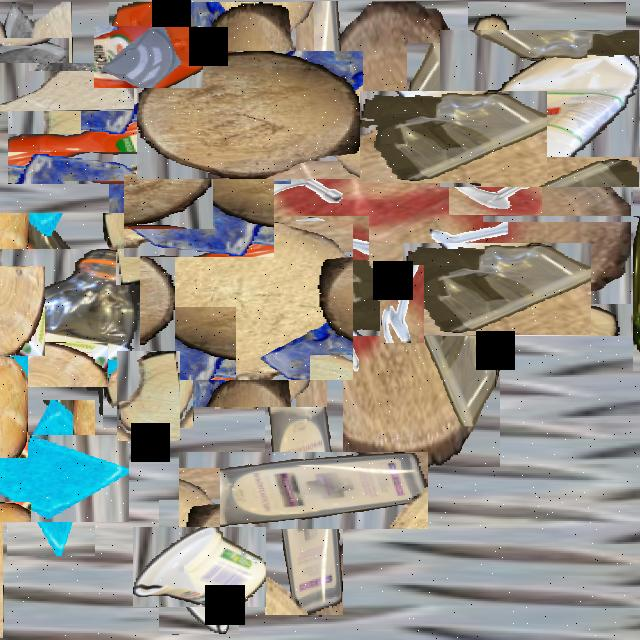glass: (0, 416, 112, 539), (140, 157, 258, 273), (105, 14, 191, 100), (156, 93, 234, 170), (0, 20, 51, 89)
metal: (317, 102, 389, 175), (380, 265, 424, 343)
plastic: (454, 16, 640, 201), (58, 53, 240, 235), (0, 230, 156, 405), (222, 409, 386, 572), (383, 67, 523, 207), (558, 140, 640, 296), (146, 513, 252, 621), (0, 301, 3, 638)
wood: (230, 67, 566, 402), (154, 207, 340, 394), (161, 27, 339, 204), (0, 32, 103, 141), (110, 358, 187, 435), (0, 266, 45, 356), (0, 356, 28, 458)
